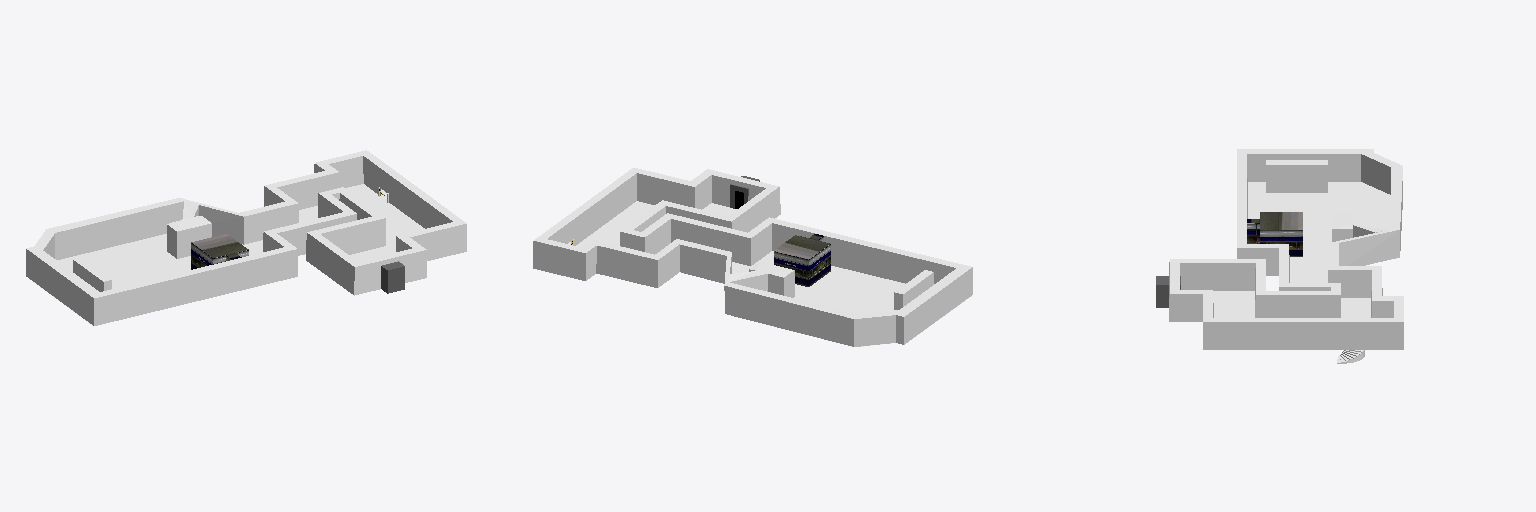
3 views of the same model, side by side, from view 1: azimuth 30°, elevation 25°; view 2: azimuth 150°, elevation 25°; view 3: azimuth 270°, elevation 25° (orthographic).
Visible parts, largest first — view 1: tutorial; view 2: tutorial; view 3: tutorial.
Boxes of the visible parts, x1=… form: tutorial: x1=26, y1=150, x2=466, y2=326; tutorial: x1=533, y1=168, x2=972, y2=346; tutorial: x1=1156, y1=149, x2=1403, y2=363.
Bounding box in the file's own units: 41.39 × 4.06 × 24.24.
Materials: 9 (2 with a texture image).